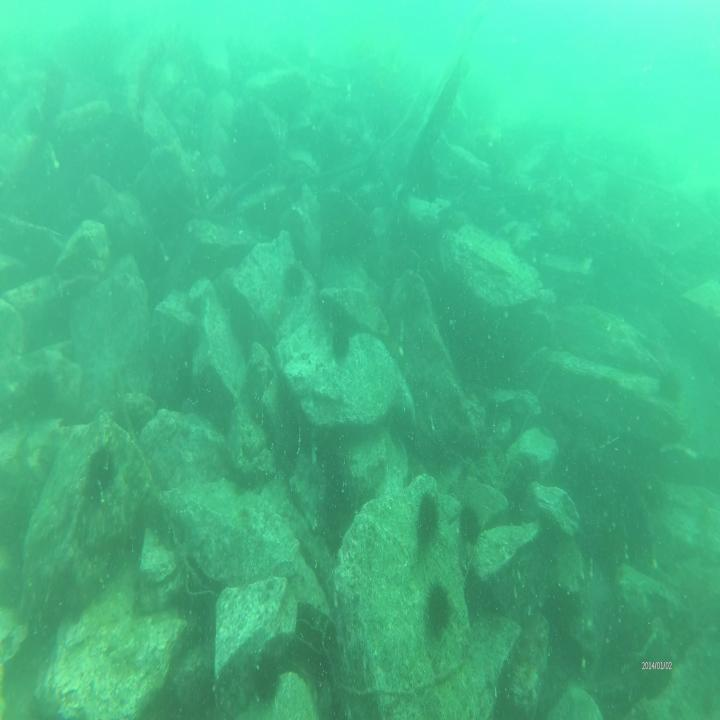echinus: (422, 577, 454, 634), (456, 494, 483, 554), (417, 485, 444, 544), (89, 446, 116, 500), (658, 358, 684, 410), (284, 260, 307, 297), (332, 323, 352, 362)
